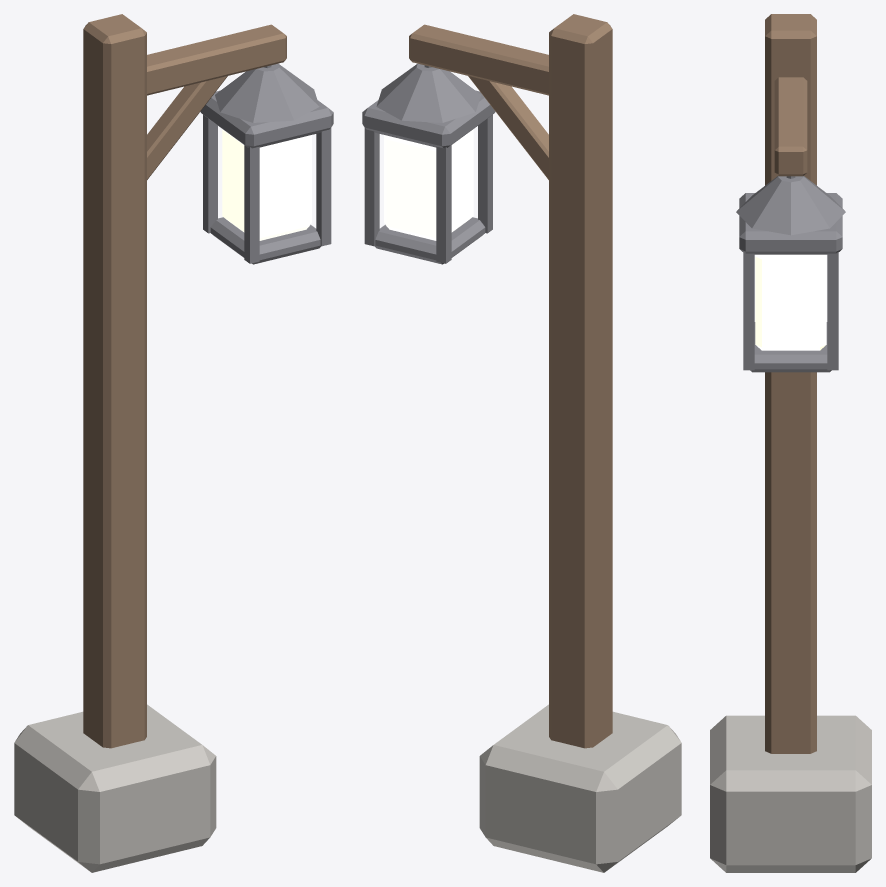
File: prop_lamp.glb
3 views of the same model, side by side, from view 1: azimuth 30°, elevation 25°; view 2: azimuth 150°, elevation 25°; view 3: azimuth 270°, elevation 25° (orthographic).
Parts seen in each view (by area): view 1: prop_lamp; view 2: prop_lamp; view 3: prop_lamp.
Boxes of the visible parts, box(x1,y1,x2,y2) form: prop_lamp: box(14, 14, 333, 872); prop_lamp: box(362, 14, 681, 872); prop_lamp: box(710, 14, 871, 872).
Size of the model in its own units: 0.97 by 2.8 by 0.5.
